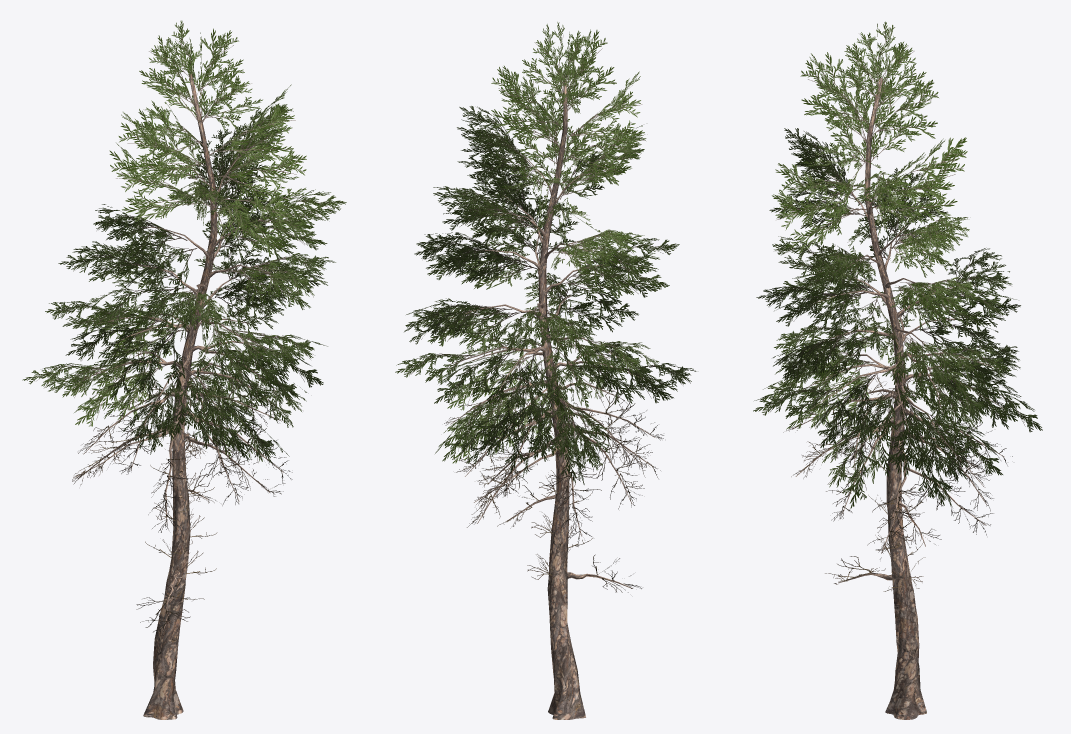
File: tree_spruce.glb
3 renders of one model, left to right at view 1: azimuth 30°, elevation 25°; view 2: azimuth 150°, elevation 25°; view 3: azimuth 270°, elevation 25°, orthographic. The views are drawn at different scales.
Parts seen in each view (by area): view 1: m; view 2: m; view 3: m.
Boxes of the visible parts, x1,y1,x2,y2 form: m: (22, 20, 346, 719); m: (395, 22, 696, 719); m: (753, 21, 1042, 719).
Size of the model in its own units: 0.3912 by 1 by 0.4083.
3 materials, 3 textured.
